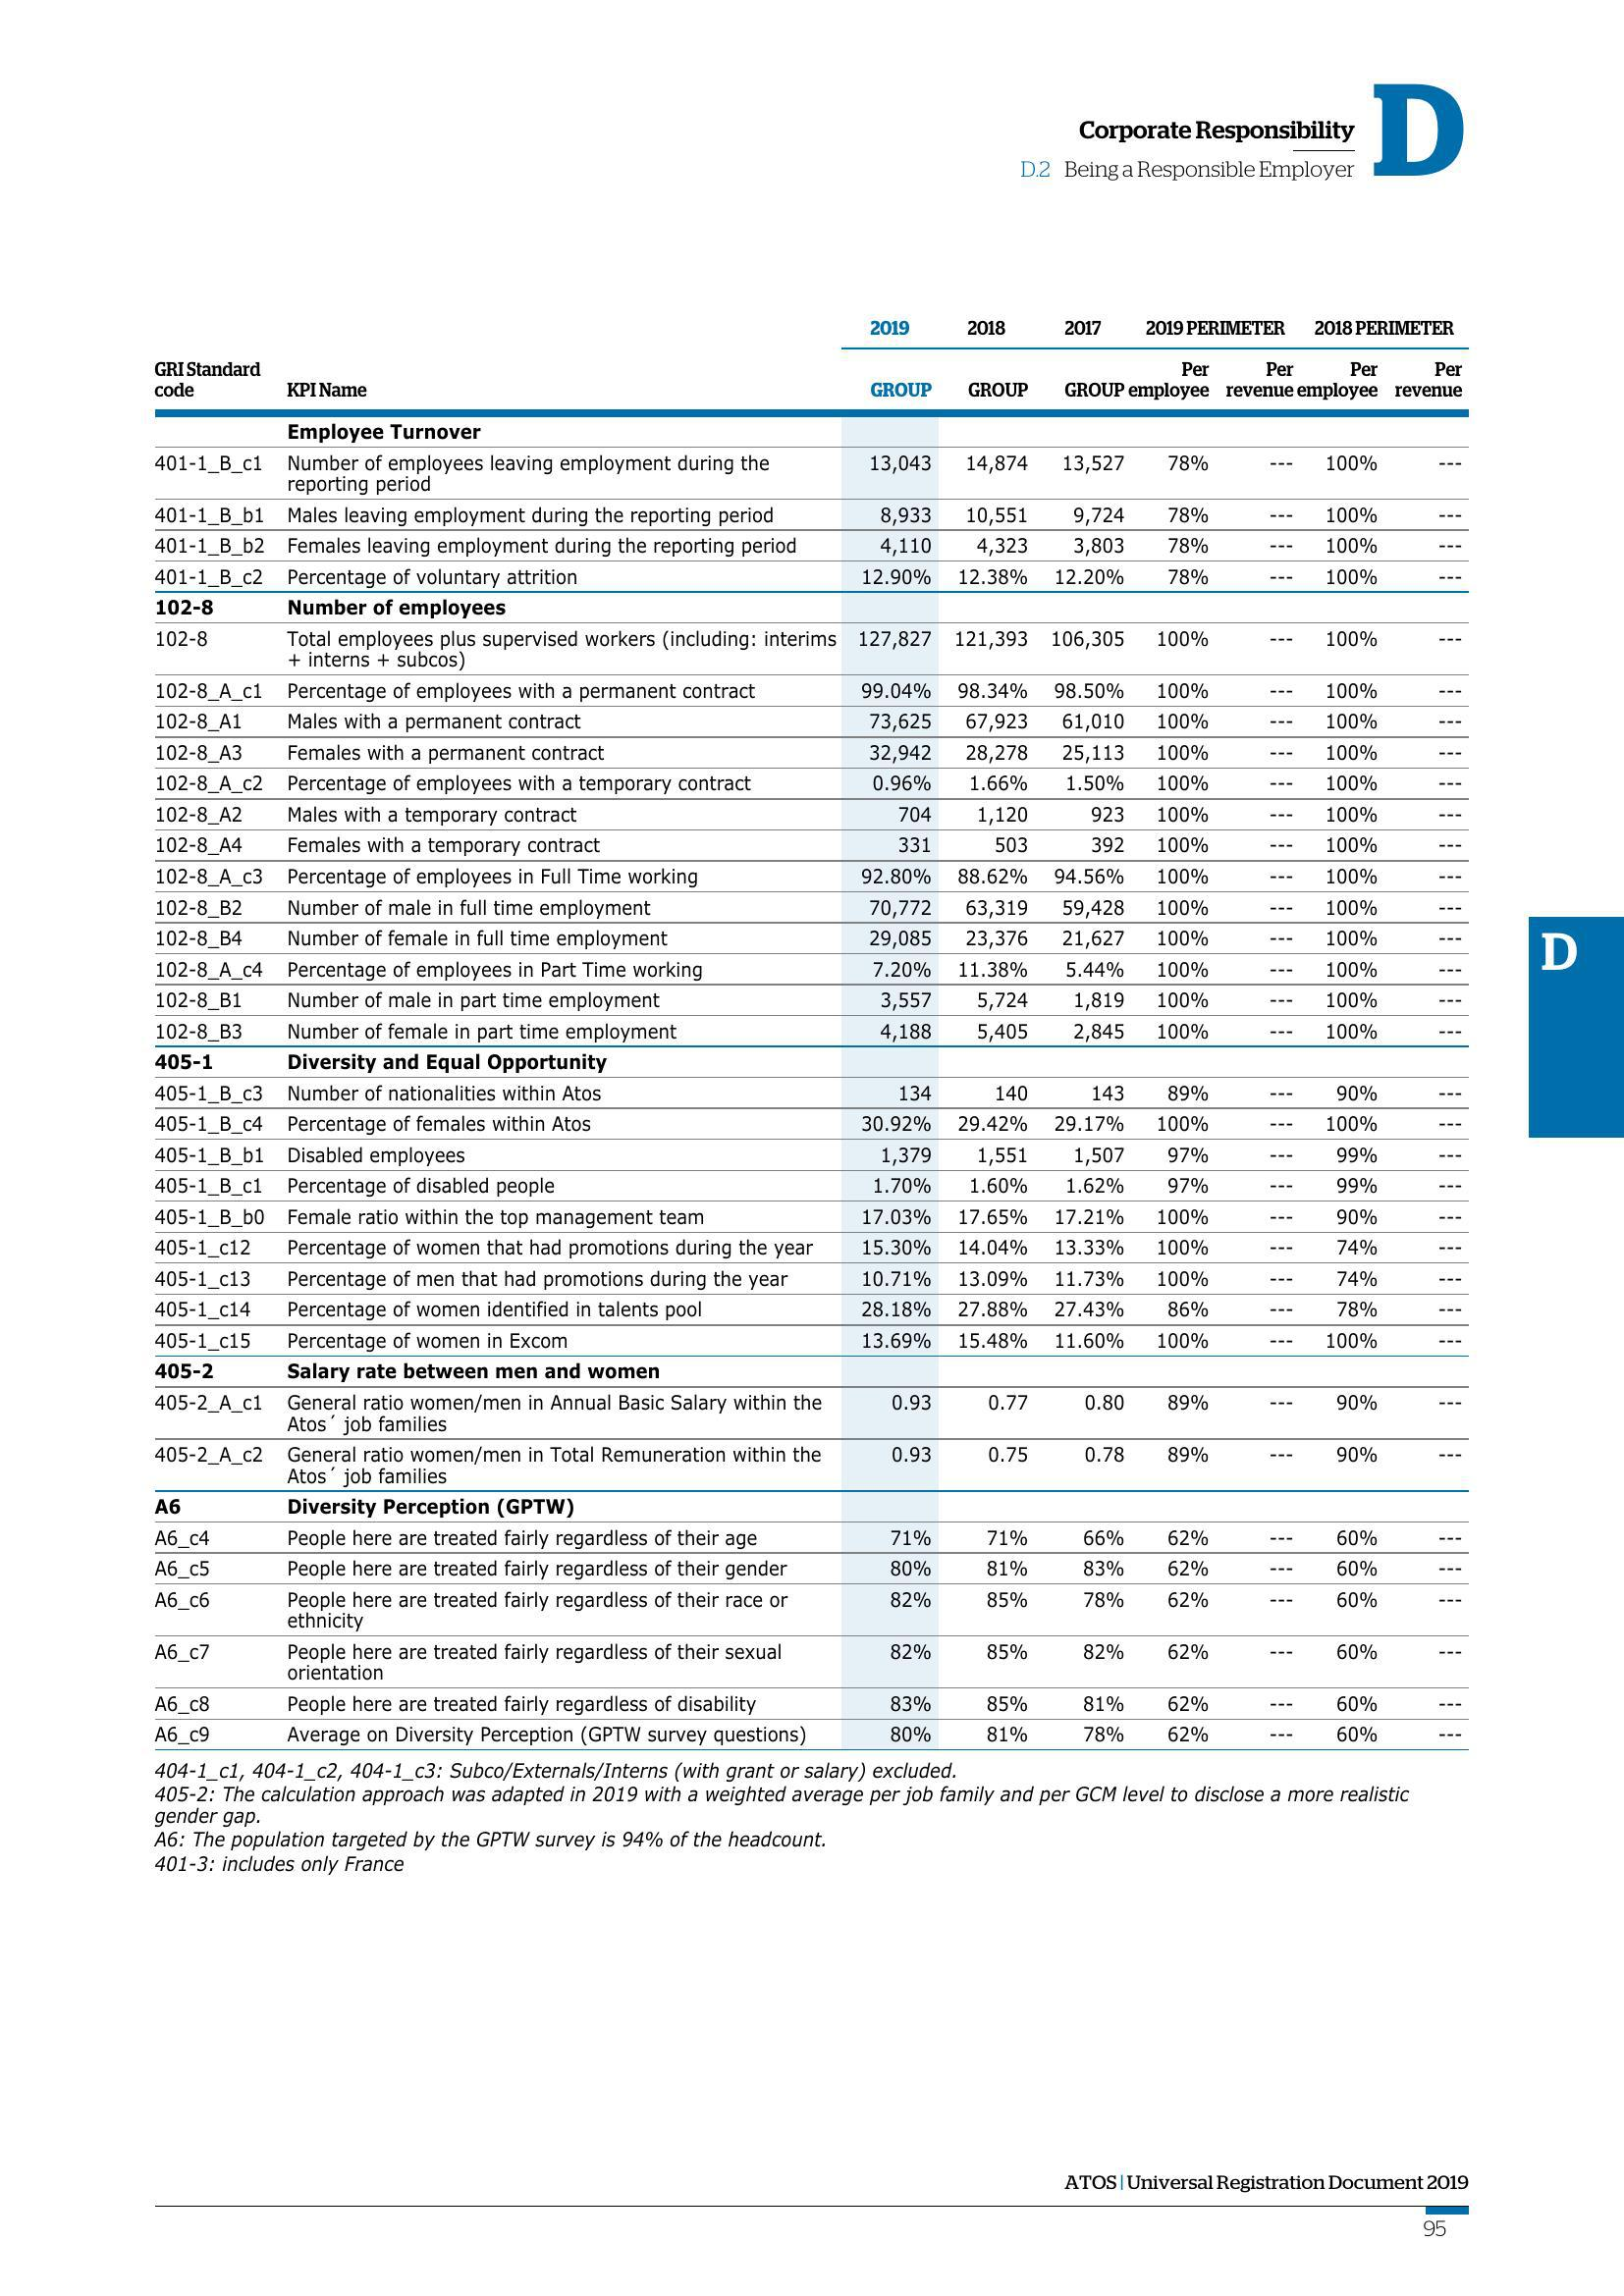cell: (269, 348, 840, 409), (269, 1384, 840, 1440), (269, 1635, 840, 1688), (269, 446, 840, 497), (269, 624, 840, 675), (269, 1440, 840, 1491), (269, 1585, 840, 1635), (269, 311, 840, 348), (269, 409, 840, 446), (269, 588, 840, 624), (269, 529, 840, 562), (269, 704, 840, 738), (269, 766, 840, 799), (269, 922, 840, 956), (269, 982, 840, 1015), (269, 1200, 840, 1233), (269, 1551, 840, 1585), (269, 497, 840, 529), (269, 859, 840, 891), (269, 891, 840, 922), (269, 1015, 840, 1047), (269, 1107, 840, 1138), (269, 1138, 840, 1170), (269, 1293, 840, 1325), (269, 675, 840, 704), (269, 799, 840, 829), (269, 829, 840, 859), (269, 1047, 840, 1077), (269, 1077, 840, 1107), (269, 1170, 840, 1200), (269, 1233, 840, 1263), (269, 1263, 840, 1293), (269, 1325, 840, 1354), (269, 1354, 840, 1384), (269, 1491, 840, 1521), (269, 1521, 840, 1551), (269, 1688, 840, 1718), (269, 1718, 840, 1748), (269, 738, 840, 766), (269, 562, 840, 588), (269, 956, 840, 982), (148, 348, 269, 409), (148, 1384, 269, 1440), (148, 1635, 269, 1688), (1134, 348, 1237, 409), (840, 348, 942, 409), (148, 446, 269, 497), (148, 624, 269, 675), (148, 1440, 269, 1491), (148, 1585, 269, 1635), (942, 348, 1042, 409), (1134, 1384, 1237, 1440), (840, 1384, 942, 1440), (942, 1384, 1042, 1440), (1042, 348, 1134, 409), (1134, 1635, 1237, 1688), (840, 1635, 942, 1688), (1134, 446, 1237, 497), (1134, 624, 1237, 675), (1134, 1440, 1237, 1491), (1134, 1585, 1237, 1635), (942, 1635, 1042, 1688), (840, 446, 942, 497), (840, 624, 942, 675), (840, 1440, 942, 1491), (840, 1585, 942, 1635), (1302, 348, 1387, 409), (1387, 348, 1471, 409), (1042, 1384, 1134, 1440), (942, 446, 1042, 497), (942, 624, 1042, 675), (942, 1440, 1042, 1491), (942, 1585, 1042, 1635), (1042, 1635, 1134, 1688), (1302, 1384, 1387, 1440), (1387, 1384, 1471, 1440), (1042, 446, 1134, 497), (1042, 624, 1134, 675), (1042, 1440, 1134, 1491), (1042, 1585, 1134, 1635), (148, 311, 269, 348), (148, 409, 269, 446), (1302, 1635, 1387, 1688), (1387, 1635, 1471, 1688), (1302, 446, 1387, 497), (1387, 446, 1471, 497), (1302, 624, 1387, 675), (1387, 624, 1471, 675), (1302, 1440, 1387, 1491), (1387, 1440, 1471, 1491), (1302, 1585, 1387, 1635), (1387, 1585, 1471, 1635), (148, 588, 269, 624), (148, 529, 269, 562), (148, 704, 269, 738), (148, 766, 269, 799), (148, 922, 269, 956), (148, 982, 269, 1015), (148, 1200, 269, 1233), (148, 1551, 269, 1585), (1237, 348, 1302, 409), (148, 497, 269, 529), (148, 859, 269, 891), (148, 891, 269, 922), (148, 1015, 269, 1047), (148, 1107, 269, 1138), (148, 1138, 269, 1170), (148, 1293, 269, 1325), (1134, 311, 1237, 348), (1134, 409, 1237, 446), (840, 311, 942, 348), (840, 409, 942, 446), (942, 311, 1042, 348), (942, 409, 1042, 446), (1237, 1384, 1302, 1440), (1134, 588, 1237, 624), (148, 675, 269, 704), (148, 799, 269, 829), (148, 829, 269, 859), (148, 1047, 269, 1077), (148, 1077, 269, 1107), (148, 1170, 269, 1200), (148, 1233, 269, 1263), (148, 1263, 269, 1293), (148, 1325, 269, 1354), (148, 1354, 269, 1384), (148, 1491, 269, 1521), (148, 1521, 269, 1551), (148, 1688, 269, 1718), (148, 1718, 269, 1748), (840, 588, 942, 624), (942, 588, 1042, 624), (1134, 529, 1237, 562), (1134, 704, 1237, 738), (1134, 766, 1237, 799), (1134, 922, 1237, 956), (1134, 982, 1237, 1015), (1134, 1200, 1237, 1233), (1134, 1551, 1237, 1585), (1237, 1635, 1302, 1688), (148, 738, 269, 766), (840, 529, 942, 562), (840, 704, 942, 738), (840, 766, 942, 799), (840, 922, 942, 956), (840, 982, 942, 1015), (840, 1200, 942, 1233), (840, 1551, 942, 1585), (1042, 311, 1134, 348), (1042, 409, 1134, 446), (942, 529, 1042, 562), (942, 704, 1042, 738), (942, 766, 1042, 799), (942, 922, 1042, 956), (942, 982, 1042, 1015), (942, 1200, 1042, 1233), (942, 1551, 1042, 1585), (1237, 446, 1302, 497), (1237, 624, 1302, 675), (1237, 1440, 1302, 1491), (1237, 1585, 1302, 1635), (1134, 497, 1237, 529), (1134, 859, 1237, 891), (1134, 891, 1237, 922), (1134, 1015, 1237, 1047), (1134, 1107, 1237, 1138), (1134, 1138, 1237, 1170), (1134, 1293, 1237, 1325), (840, 497, 942, 529), (840, 859, 942, 891), (840, 891, 942, 922), (840, 1015, 942, 1047), (840, 1107, 942, 1138), (840, 1138, 942, 1170), (840, 1293, 942, 1325), (1042, 588, 1134, 624), (148, 562, 269, 588), (148, 956, 269, 982), (942, 497, 1042, 529), (942, 859, 1042, 891), (942, 891, 1042, 922), (942, 1015, 1042, 1047), (942, 1107, 1042, 1138), (942, 1138, 1042, 1170), (942, 1293, 1042, 1325), (1302, 311, 1387, 348), (1387, 311, 1471, 348), (1302, 409, 1387, 446), (1387, 409, 1471, 446), (1134, 675, 1237, 704), (1134, 799, 1237, 829), (1134, 829, 1237, 859), (1134, 1047, 1237, 1077), (1134, 1077, 1237, 1107), (1134, 1170, 1237, 1200), (1134, 1233, 1237, 1263), (1134, 1263, 1237, 1293), (1134, 1325, 1237, 1354), (1134, 1354, 1237, 1384), (1134, 1491, 1237, 1521), (1134, 1521, 1237, 1551), (1134, 1688, 1237, 1718), (1134, 1718, 1237, 1748), (1042, 529, 1134, 562), (1042, 704, 1134, 738), (1042, 766, 1134, 799), (1042, 922, 1134, 956), (1042, 982, 1134, 1015), (1042, 1200, 1134, 1233), (1042, 1551, 1134, 1585), (840, 675, 942, 704), (840, 799, 942, 829), (840, 829, 942, 859), (840, 1047, 942, 1077), (840, 1077, 942, 1107), (840, 1170, 942, 1200), (840, 1233, 942, 1263), (840, 1263, 942, 1293), (840, 1325, 942, 1354), (840, 1354, 942, 1384), (840, 1491, 942, 1521), (840, 1521, 942, 1551), (840, 1688, 942, 1718), (840, 1718, 942, 1748), (942, 675, 1042, 704), (942, 799, 1042, 829), (942, 829, 1042, 859), (942, 1047, 1042, 1077), (942, 1077, 1042, 1107), (942, 1170, 1042, 1200), (942, 1233, 1042, 1263), (942, 1263, 1042, 1293), (942, 1325, 1042, 1354), (942, 1354, 1042, 1384), (942, 1491, 1042, 1521), (942, 1521, 1042, 1551), (942, 1688, 1042, 1718), (942, 1718, 1042, 1748), (1302, 588, 1387, 624), (1387, 588, 1471, 624), (1134, 738, 1237, 766), (1042, 497, 1134, 529), (1042, 859, 1134, 891), (1042, 891, 1134, 922), (1042, 1015, 1134, 1047), (1042, 1107, 1134, 1138), (1042, 1138, 1134, 1170), (1042, 1293, 1134, 1325), (840, 738, 942, 766), (1302, 529, 1387, 562), (1387, 529, 1471, 562), (1302, 704, 1387, 738), (1387, 704, 1471, 738), (942, 738, 1042, 766), (1302, 766, 1387, 799), (1387, 766, 1471, 799), (1302, 922, 1387, 956), (1387, 922, 1471, 956), (1302, 982, 1387, 1015), (1387, 982, 1471, 1015), (1302, 1200, 1387, 1233), (1387, 1200, 1471, 1233), (1302, 1551, 1387, 1585), (1387, 1551, 1471, 1585), (1134, 562, 1237, 588), (1134, 956, 1237, 982), (1042, 675, 1134, 704), (1042, 799, 1134, 829), (1042, 829, 1134, 859), (1042, 1047, 1134, 1077), (1042, 1077, 1134, 1107), (1042, 1170, 1134, 1200), (1042, 1233, 1134, 1263), (1042, 1263, 1134, 1293), (1042, 1325, 1134, 1354), (1042, 1354, 1134, 1384), (1042, 1491, 1134, 1521), (1042, 1521, 1134, 1551), (1042, 1688, 1134, 1718), (1042, 1718, 1134, 1748), (840, 562, 942, 588), (840, 956, 942, 982), (1302, 497, 1387, 529), (1387, 497, 1471, 529), (1302, 859, 1387, 891), (1387, 859, 1471, 891), (1302, 891, 1387, 922), (1387, 891, 1471, 922), (1302, 1015, 1387, 1047), (1387, 1015, 1471, 1047), (1302, 1107, 1387, 1138), (1387, 1107, 1471, 1138), (1302, 1138, 1387, 1170), (1387, 1138, 1471, 1170), (1302, 1293, 1387, 1325), (1387, 1293, 1471, 1325), (942, 562, 1042, 588), (942, 956, 1042, 982), (1042, 738, 1134, 766), (1302, 675, 1387, 704), (1387, 675, 1471, 704), (1302, 799, 1387, 829), (1387, 799, 1471, 829), (1302, 829, 1387, 859), (1387, 829, 1471, 859), (1302, 1047, 1387, 1077), (1387, 1047, 1471, 1077), (1302, 1077, 1387, 1107), (1387, 1077, 1471, 1107), (1302, 1170, 1387, 1200), (1387, 1170, 1471, 1200), (1302, 1233, 1387, 1263), (1387, 1233, 1471, 1263), (1302, 1263, 1387, 1293), (1387, 1263, 1471, 1293), (1302, 1325, 1387, 1354), (1387, 1325, 1471, 1354), (1302, 1354, 1387, 1384), (1387, 1354, 1471, 1384), (1302, 1491, 1387, 1521), (1387, 1491, 1471, 1521), (1302, 1521, 1387, 1551), (1387, 1521, 1471, 1551), (1302, 1688, 1387, 1718), (1387, 1688, 1471, 1718), (1302, 1718, 1387, 1748), (1387, 1718, 1471, 1748), (1042, 562, 1134, 588), (1042, 956, 1134, 982), (1237, 311, 1302, 348), (1237, 409, 1302, 446), (1302, 738, 1387, 766), (1387, 738, 1471, 766), (1237, 588, 1302, 624), (1302, 562, 1387, 588), (1387, 562, 1471, 588), (1302, 956, 1387, 982), (1387, 956, 1471, 982), (1237, 529, 1302, 562), (1237, 704, 1302, 738), (1237, 766, 1302, 799), (1237, 922, 1302, 956), (1237, 982, 1302, 1015), (1237, 1200, 1302, 1233), (1237, 1551, 1302, 1585), (1237, 497, 1302, 529), (1237, 859, 1302, 891), (1237, 891, 1302, 922), (1237, 1015, 1302, 1047), (1237, 1107, 1302, 1138), (1237, 1138, 1302, 1170), (1237, 1293, 1302, 1325), (1237, 675, 1302, 704), (1237, 799, 1302, 829), (1237, 829, 1302, 859), (1237, 1047, 1302, 1077), (1237, 1077, 1302, 1107), (1237, 1170, 1302, 1200), (1237, 1233, 1302, 1263), (1237, 1263, 1302, 1293), (1237, 1325, 1302, 1354), (1237, 1354, 1302, 1384), (1237, 1491, 1302, 1521), (1237, 1521, 1302, 1551), (1237, 1688, 1302, 1718), (1237, 1718, 1302, 1748), (1237, 738, 1302, 766), (1237, 562, 1302, 588), (1237, 956, 1302, 982)
table: (148, 311, 1471, 1748)
